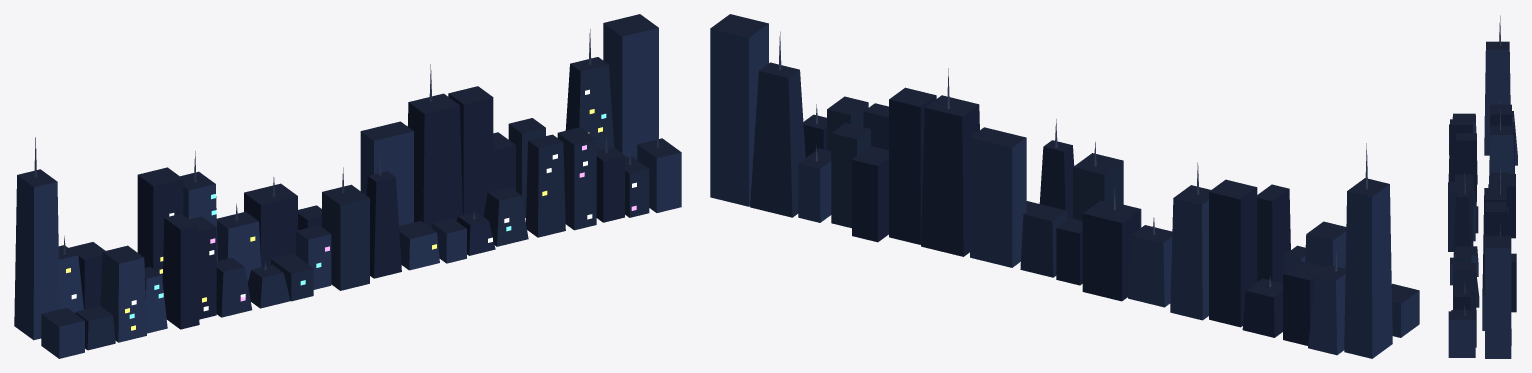
Rendered from W1_Far_SkylineB.fbx.
3 views of the same model, side by side, from view 1: azimuth 30°, elevation 25°; view 2: azimuth 150°, elevation 25°; view 3: azimuth 270°, elevation 25° (orthographic). The views are drawn at different scales.
Parts seen in each view (by area): view 1: W1_Far_SkylineB; view 2: W1_Far_SkylineB; view 3: W1_Far_SkylineB.
Boxes of the visible parts, left/top/right/bottom form: W1_Far_SkylineB: left=14, top=14, right=681, bottom=358; W1_Far_SkylineB: left=710, top=14, right=1419, bottom=358; W1_Far_SkylineB: left=1448, top=15, right=1517, bottom=358.
Size of the model in its own units: 425 by 128 by 59.15.
